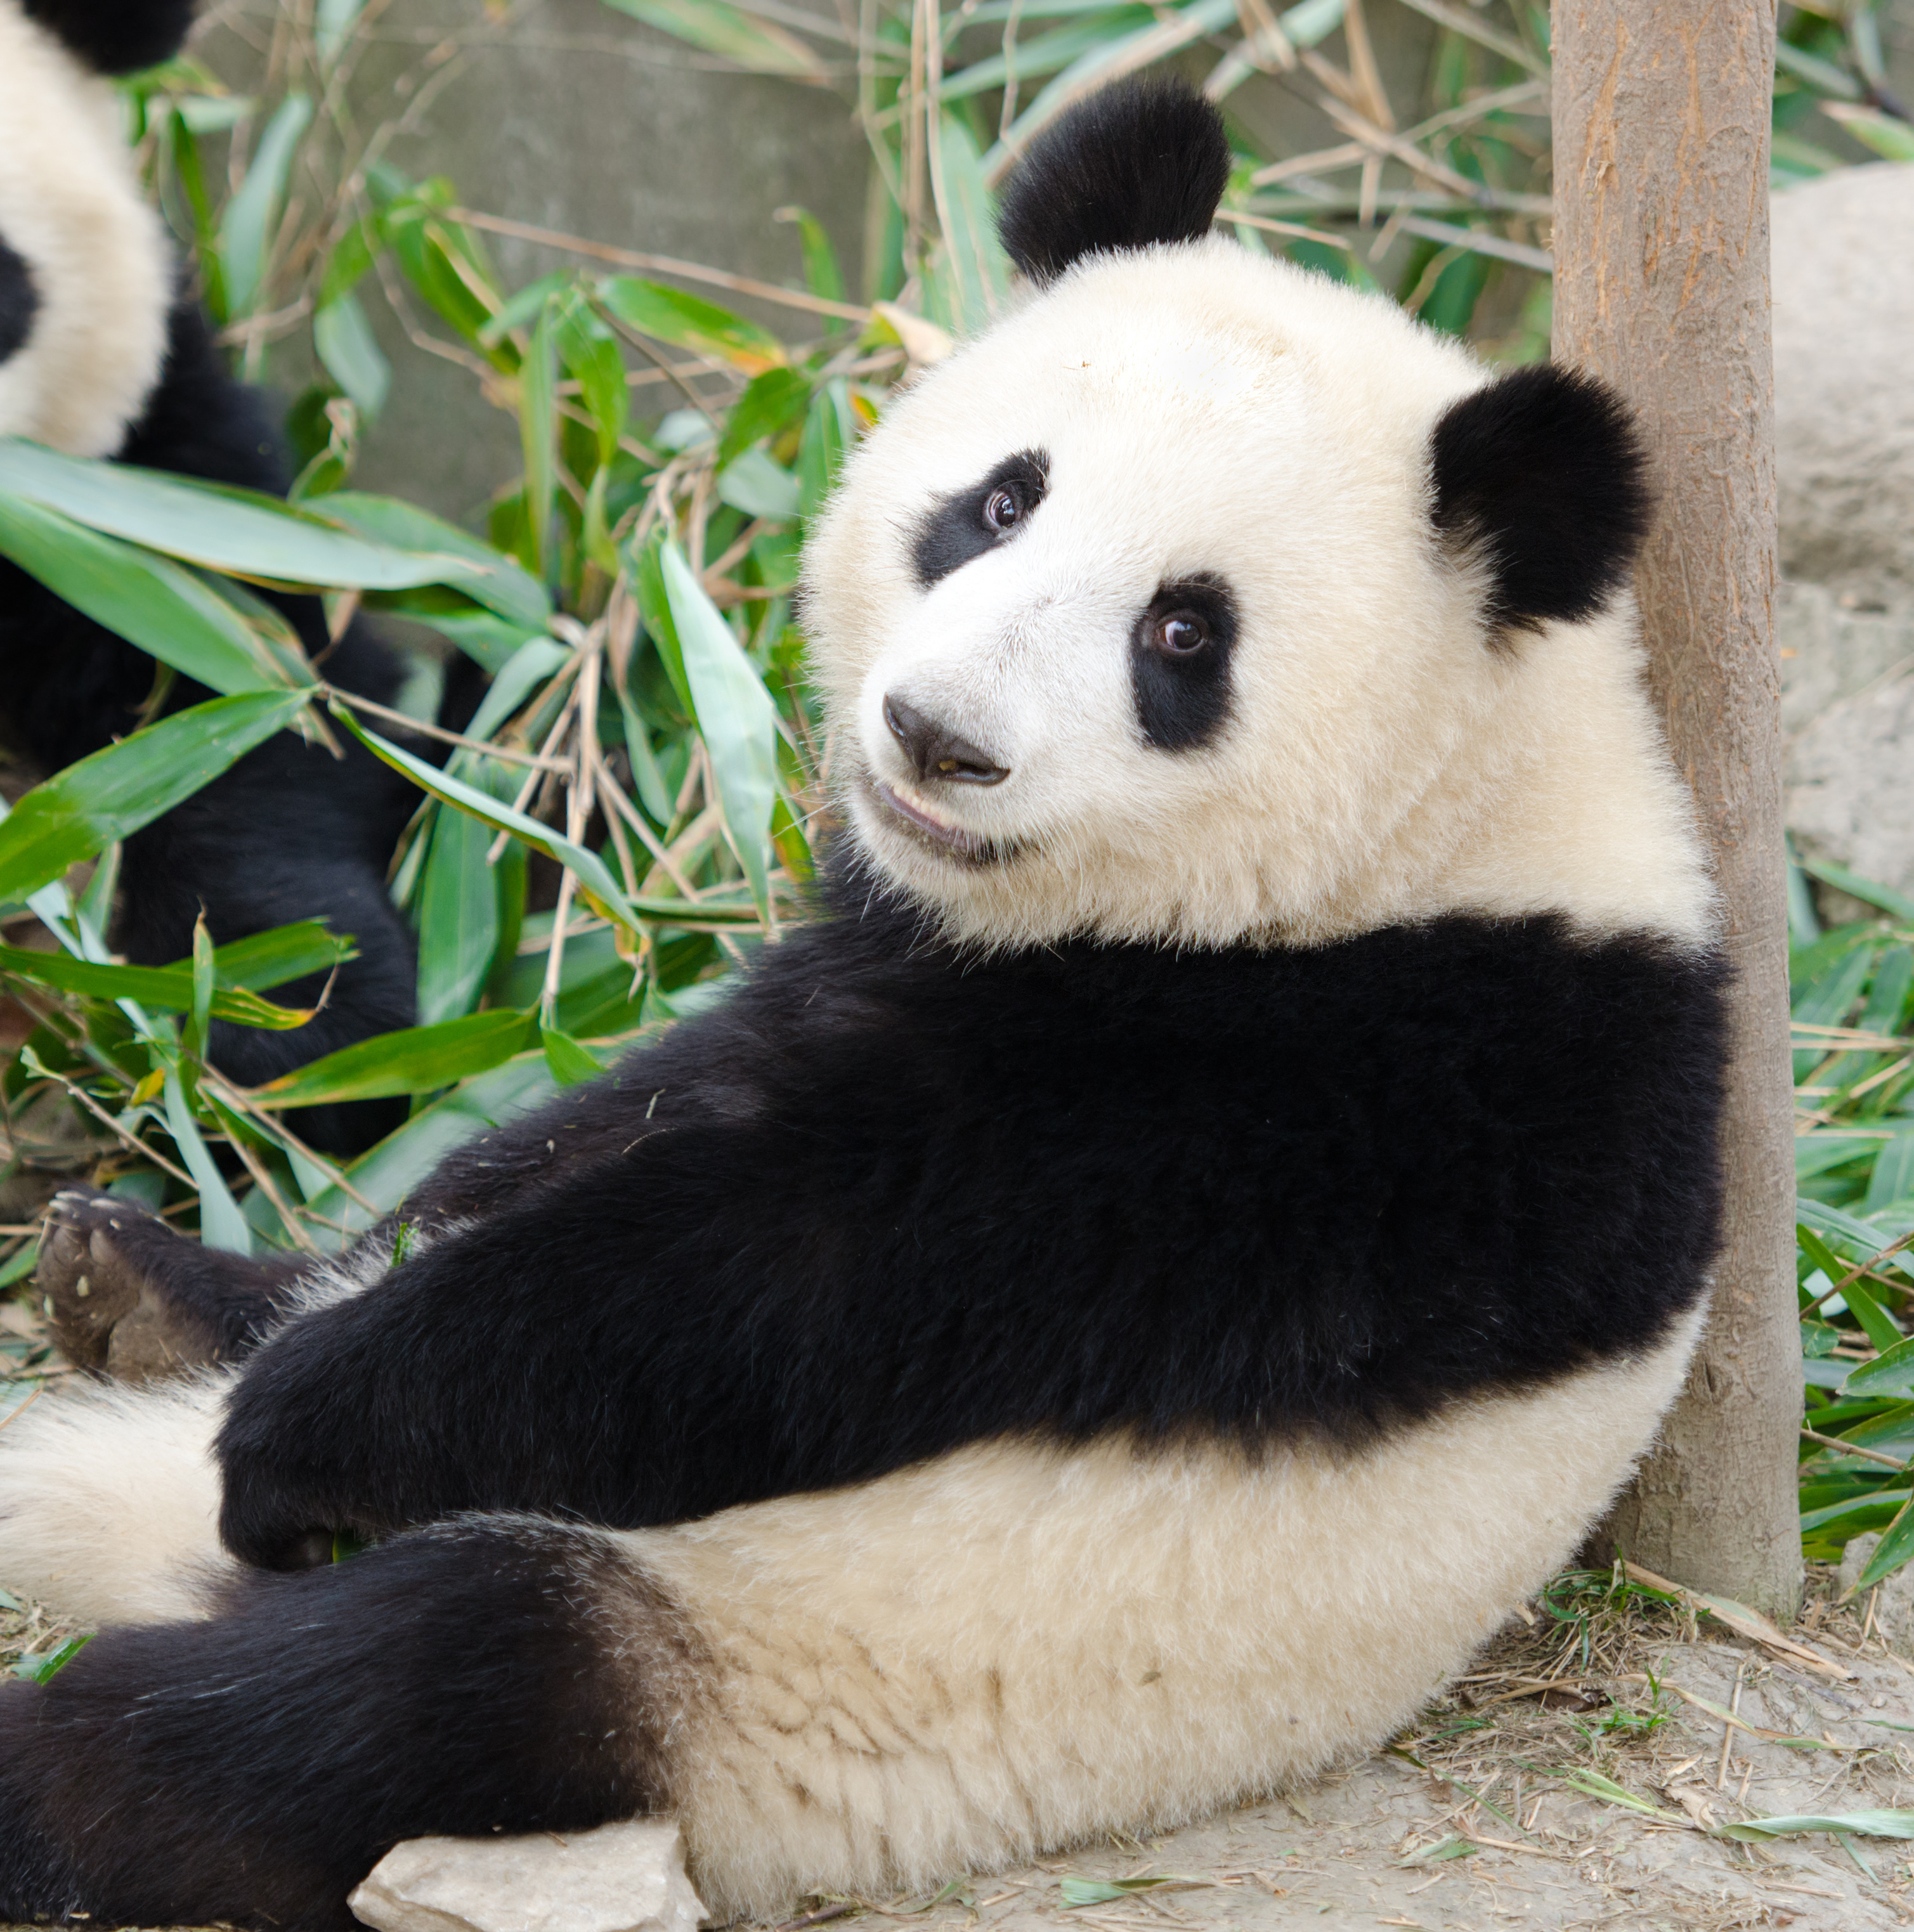panda: (142, 74, 1868, 1911)
